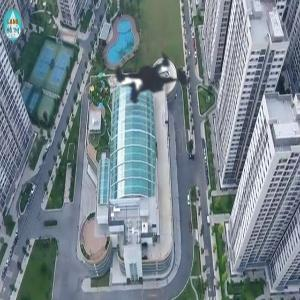drone: (80, 9, 224, 153)
